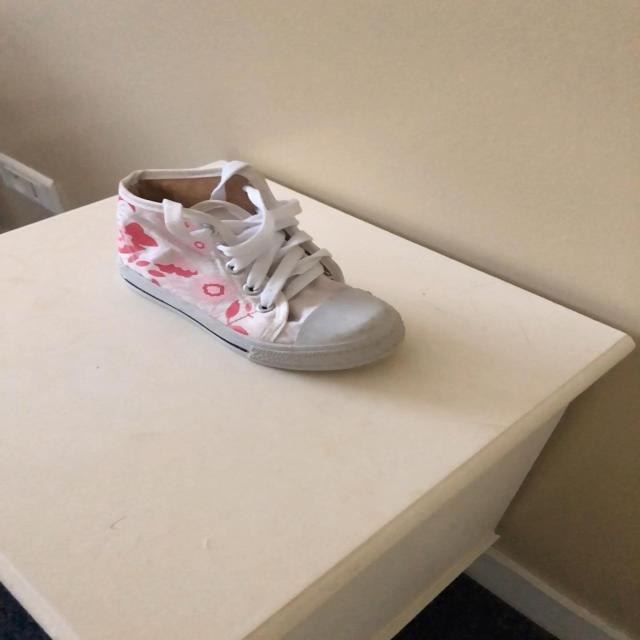shoe: (117, 162, 404, 374)
